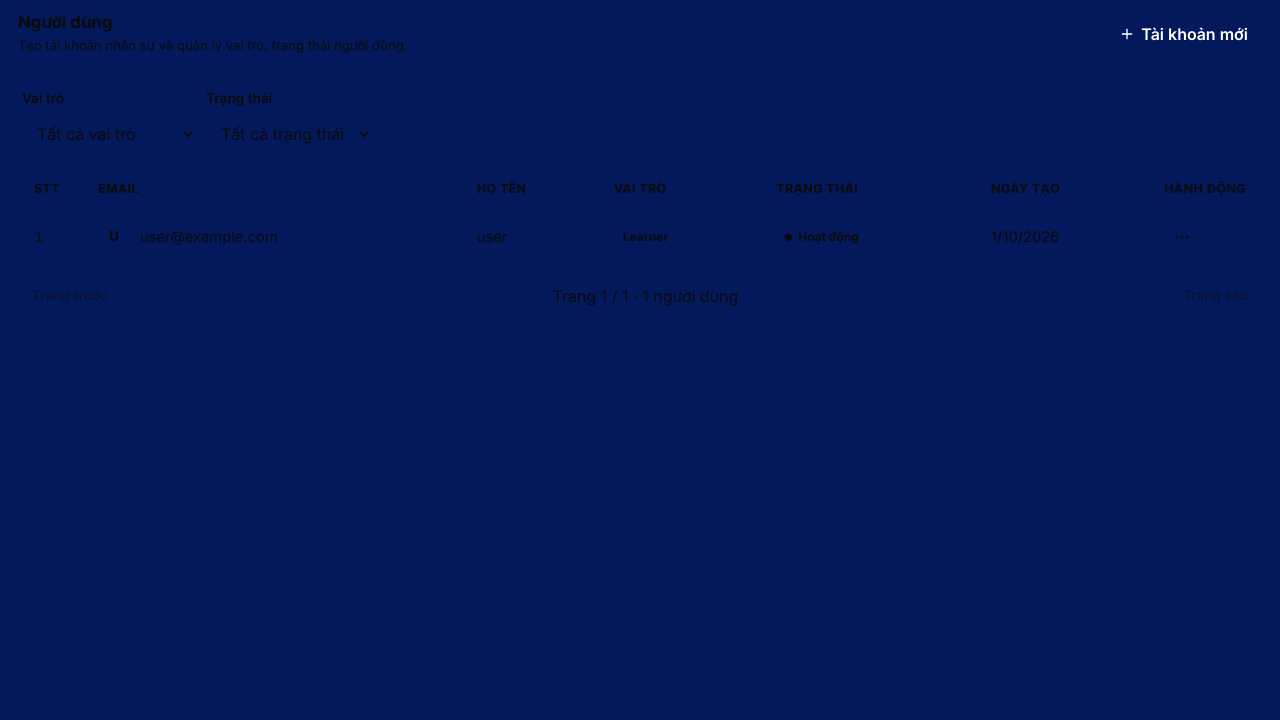
Test: user row menu › opens the roles of an account in their own small modal
The image size is (1280, 720).
Click the button named "Hành động của user@example.com": (1182,237) [1164,219,1200,255]
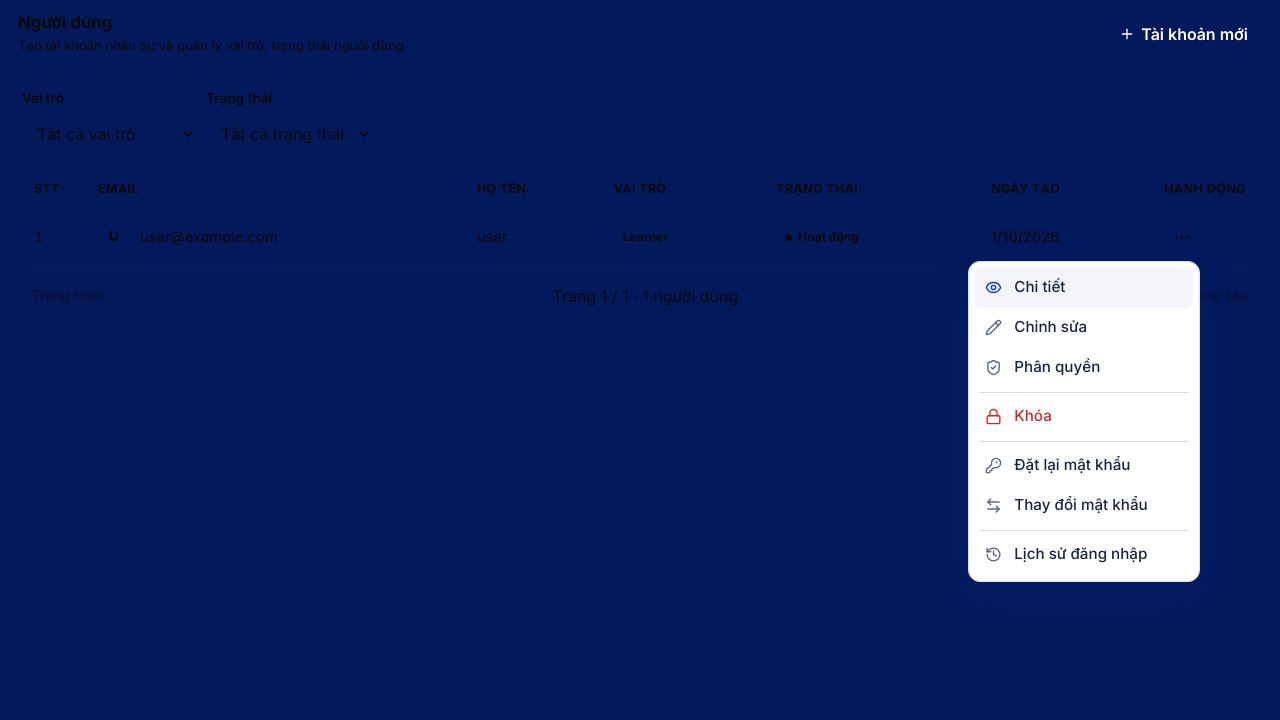
Click the menu item "Phân quyền": (1084,368) [975,348,1193,388]
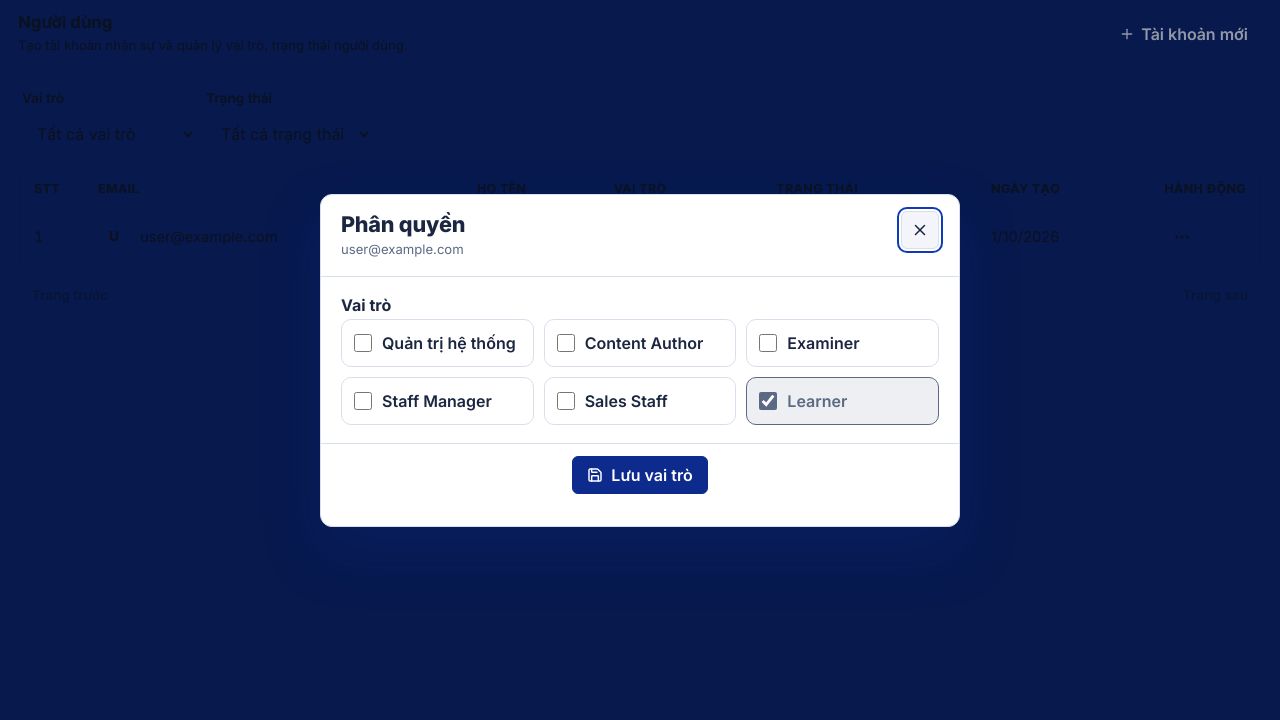
Expected: the element "Vai trò" is shown, [341,292,939,424]
